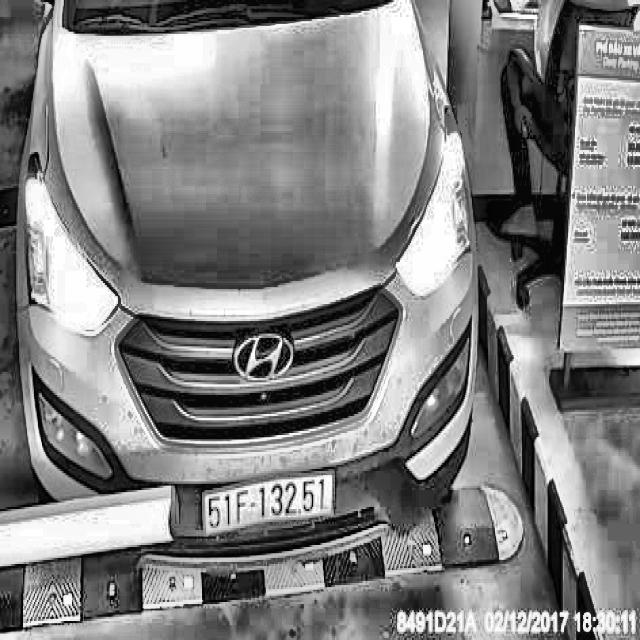plate: (198, 466, 337, 541)
